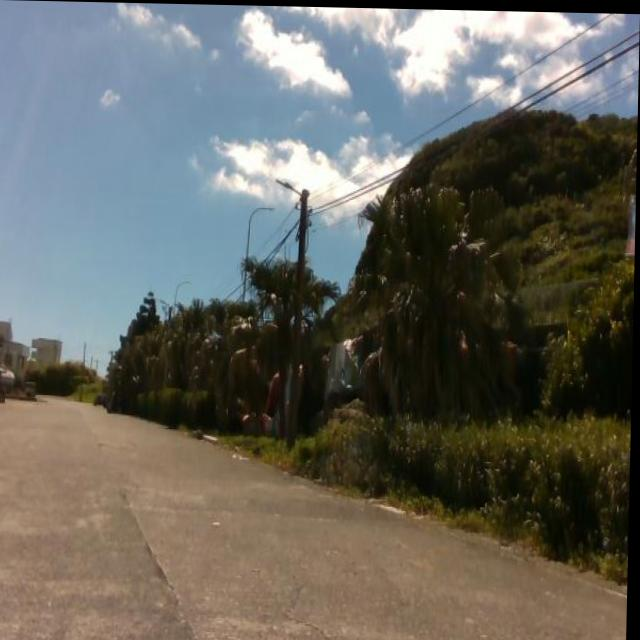pollute: (255, 325, 373, 440)
